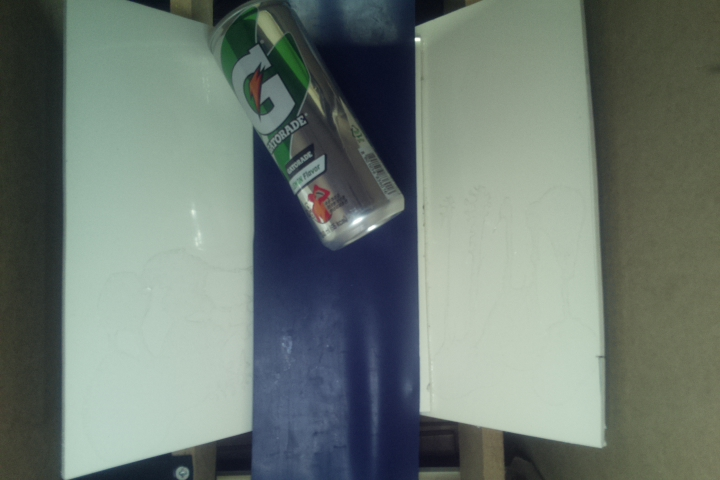can: (204, 1, 407, 252)
